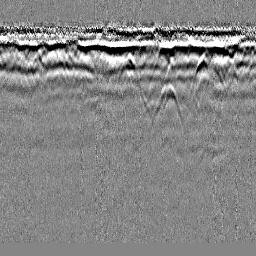cavity: (115, 51, 141, 87)
